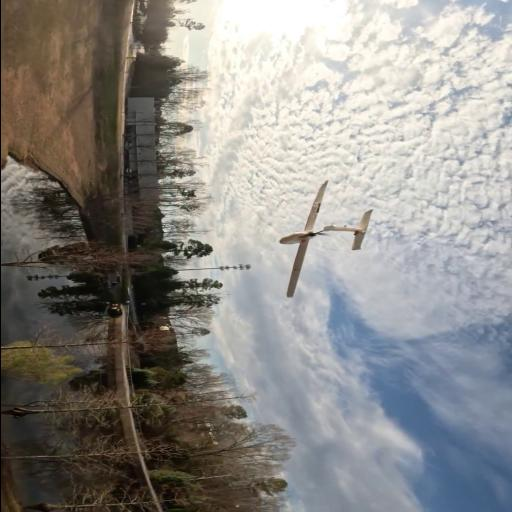uav: (276, 176, 376, 302)
